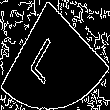L_NE: (35, 26, 75, 84)
